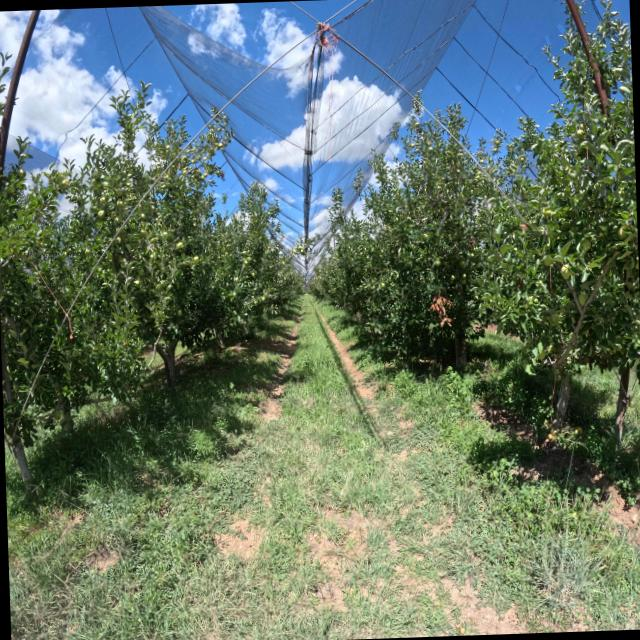-FireBlight-: (429, 294, 455, 329)
